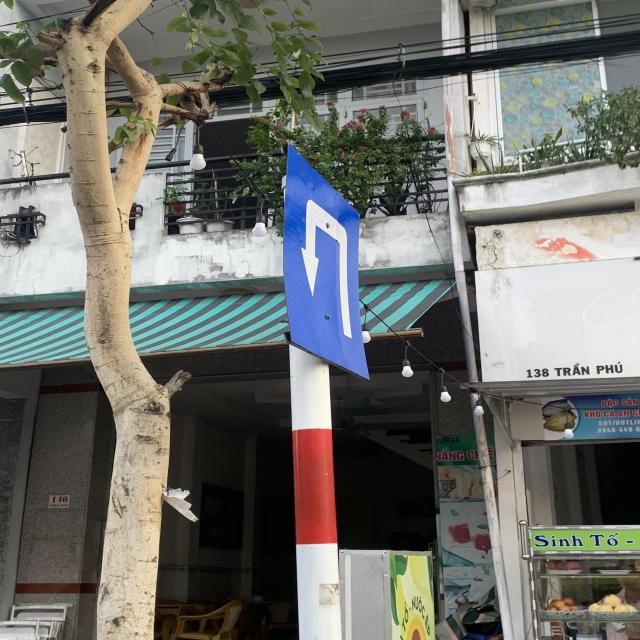Den_Giao_Thong: (286, 145, 366, 387)
